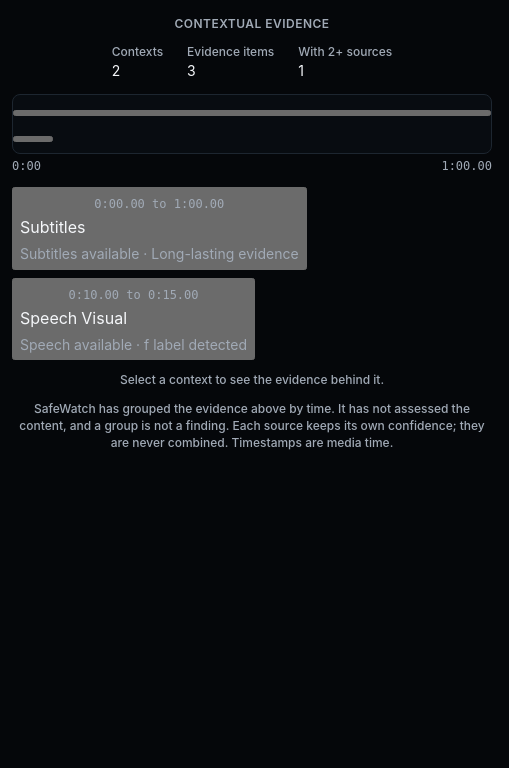
Test: ContextPanel (ready) › explains frame coverage and long evidence in plain words
Click the button that starts with "0:10.00 to 0:15.00" at [134, 319], box [12,278,255,360]
(page scrolled)
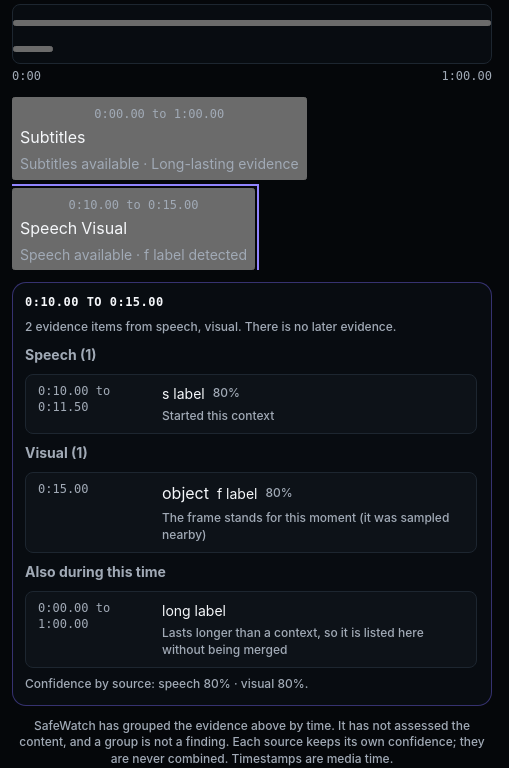
Expected: the element named "Evidence for context" shows "The frame stands for this moment", [162,510,449,542]
Expected: the element named "Evidence for context" shows "Also during this time", [25,563,166,580]
Expected: the element named "Evidence for context" shows "Lasts longer than a context, so it is listed here without being merged", [162,625,424,657]
